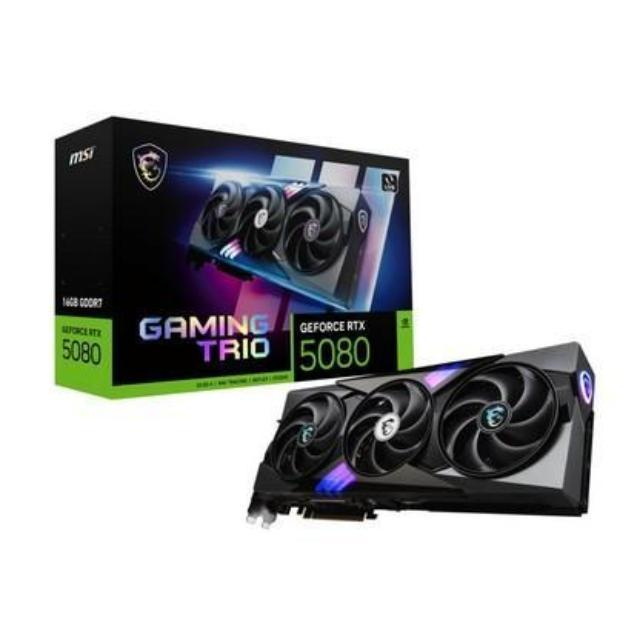GPU: (240, 332, 594, 526)
